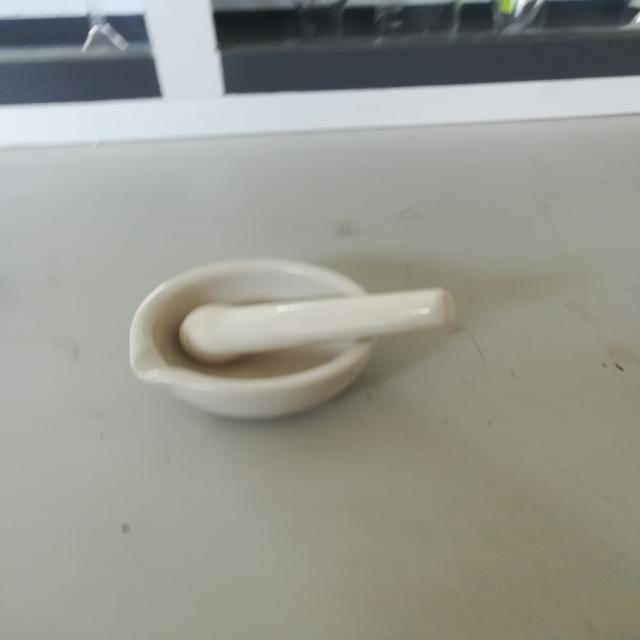Porcelain_Mortar Pestle: (82, 196, 487, 469)
